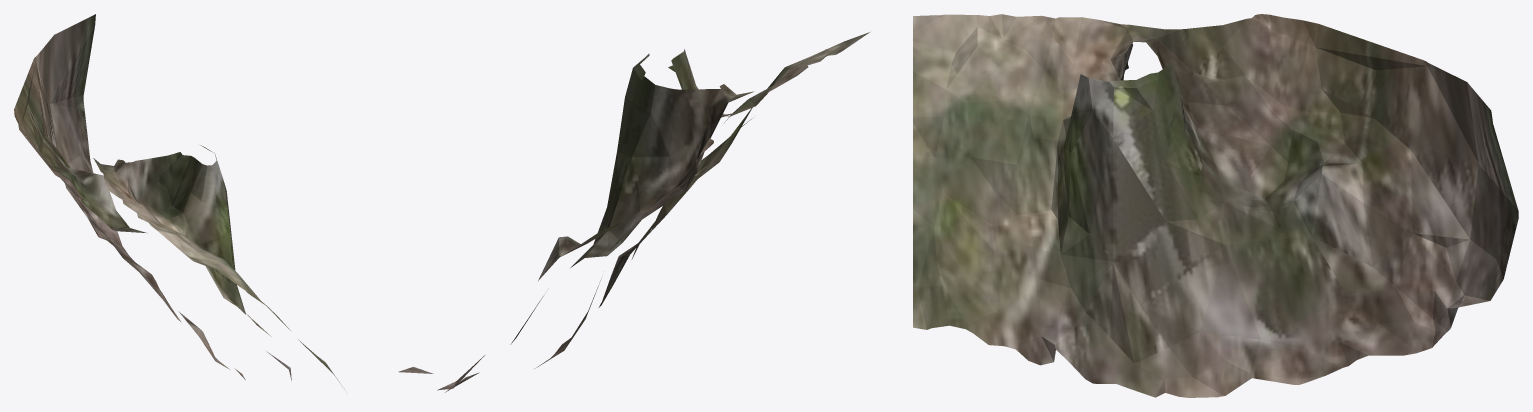
The picture shows the model from 3 angles, left to right: view 1: azimuth 30°, elevation 25°; view 2: azimuth 150°, elevation 25°; view 3: azimuth 270°, elevation 25°; orthographic projection. The views are drawn at different scales.
Bounding box in the file's own units: 0.7966 × 1.1 × 2.11.
Materials: 1 (1 with a texture image).
